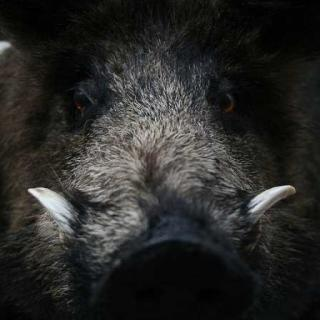Pig: (27, 26, 320, 319)
